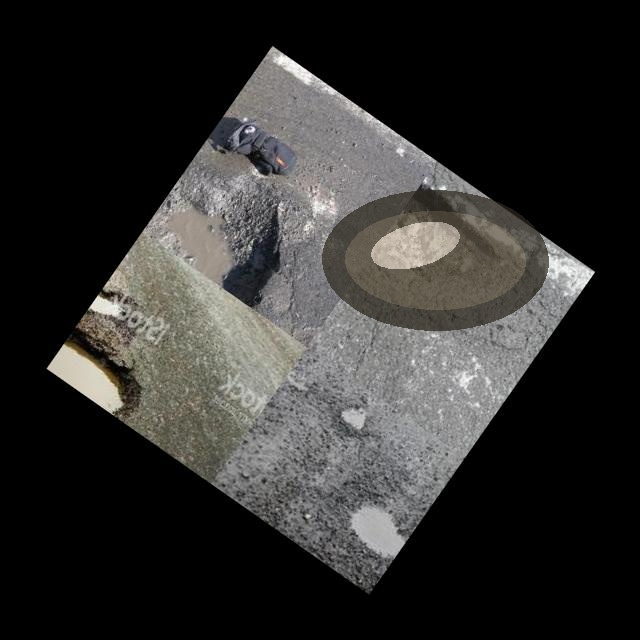waterlogging: (312, 180, 558, 340)
